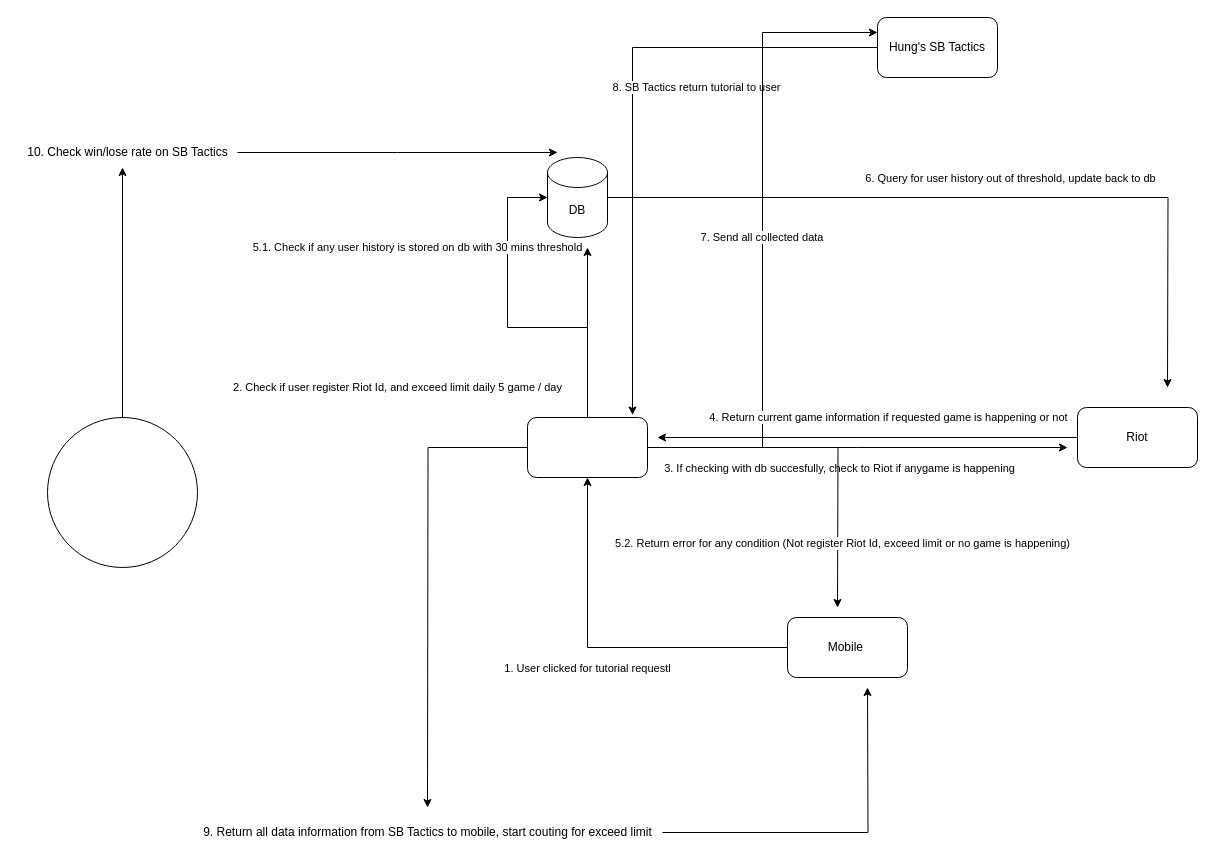
Some shapes in this 1215 by 865 pixel diagram are drawn without their labels. The centre of each missing label's shape, as x and y in pixels:
"Backend" goes at point (587, 447).
"Cronjob to check win/lose rate on user used Sb Tactics" goes at point (122, 492).
